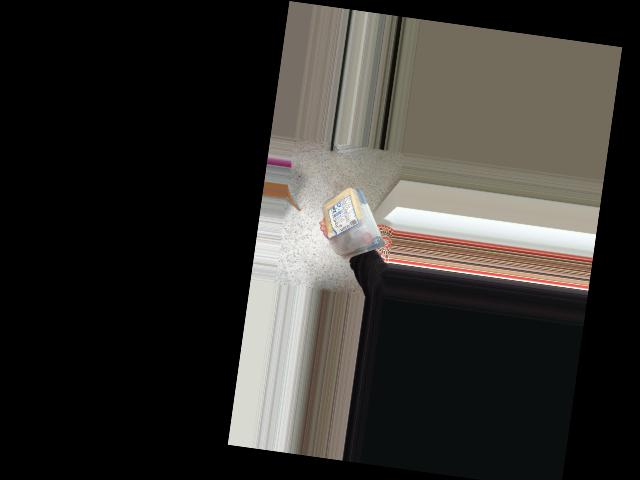cheese: (309, 178, 396, 267)
